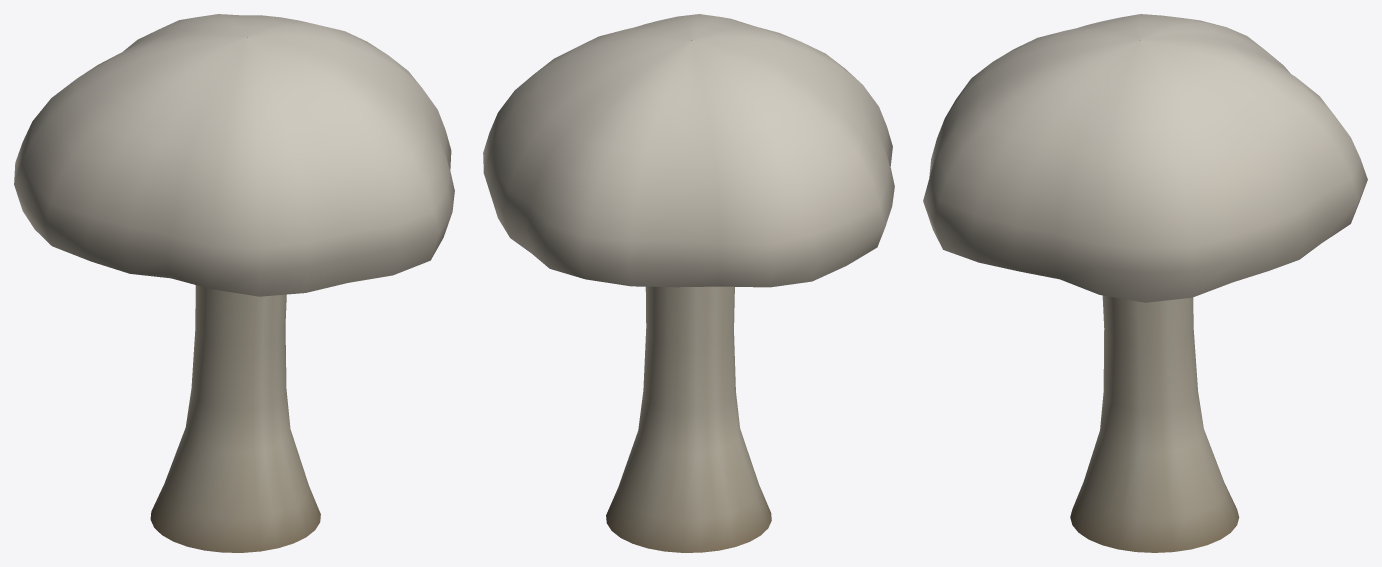
The model's file is mushroom-giant-glow-a.glb.
3 renders of one model, left to right at view 1: azimuth 30°, elevation 25°; view 2: azimuth 150°, elevation 25°; view 3: azimuth 270°, elevation 25°, orthographic. The views are drawn at different scales.
Parts seen in each view (by area): view 1: mushroom-giant-glow-a; view 2: mushroom-giant-glow-a; view 3: mushroom-giant-glow-a.
Boxes of the visible parts, bbox=[...] form: mushroom-giant-glow-a: bbox=[14, 14, 454, 552]; mushroom-giant-glow-a: bbox=[483, 14, 894, 552]; mushroom-giant-glow-a: bbox=[923, 14, 1367, 552].
Size of the model in its own units: 1.06 by 1.25 by 1.05.
